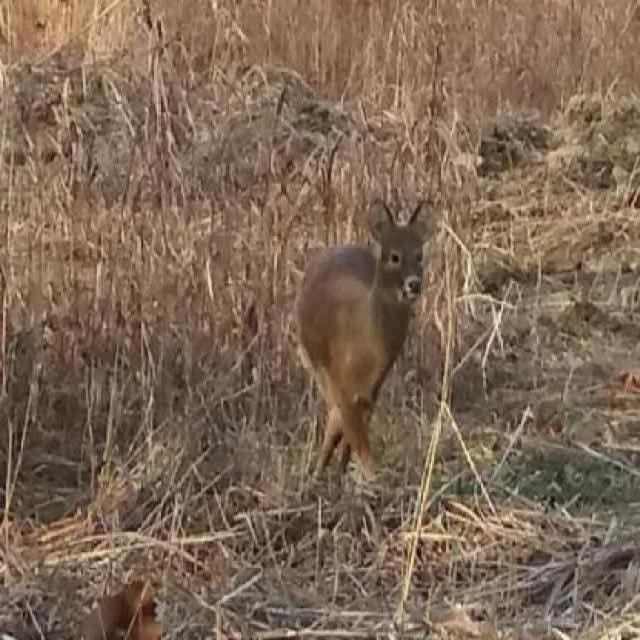deer: (288, 189, 446, 488)
